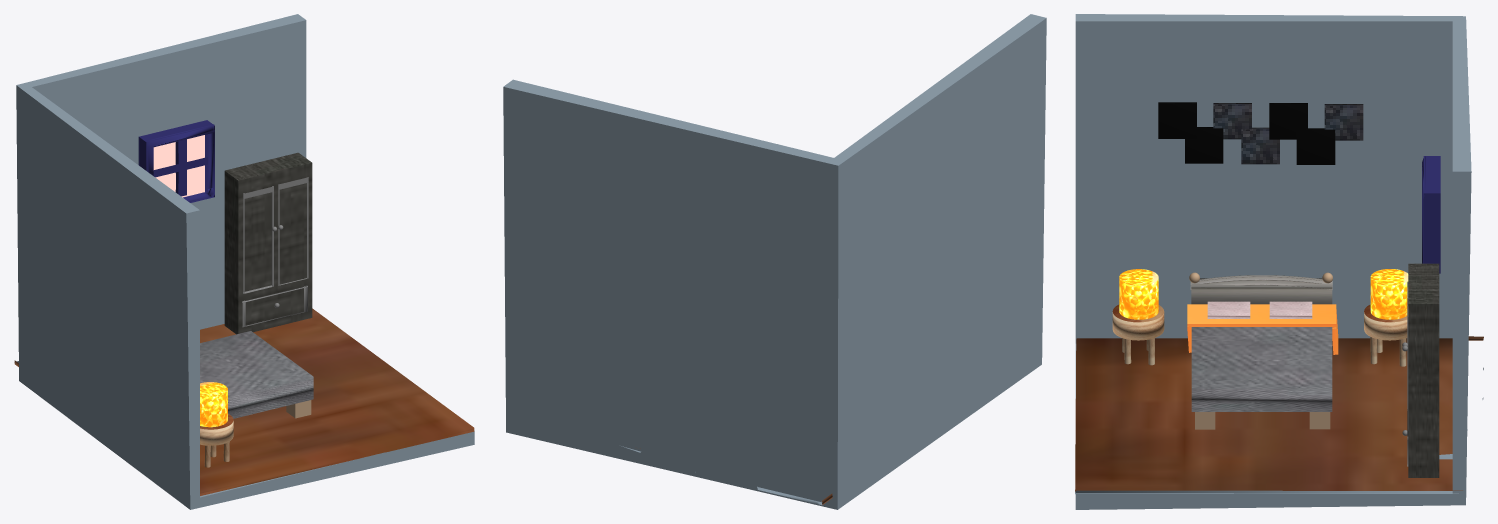
Rendered from myhomeFinalFour.glb.
The picture shows the model from 3 angles, left to right: view 1: azimuth 30°, elevation 25°; view 2: azimuth 150°, elevation 25°; view 3: azimuth 270°, elevation 25°; orthographic projection. The views are drawn at different scales.
Parts seen in each view (by area): view 1: Cube.028, Cube.001, Cube.016, Cube.002, Cube.027, Cube.014, Cylinder.005, Cube.015, Cube.013, Cube.017, Cylinder, Cube.018; view 2: Cube.028; view 3: Cube.028, Cube.001, Cube.002, Cube.016, Cube.007, Cube.009, Cube.013, Cylinder.005, Cylinder.011, Cube.025, Cube.020, Cube.026 (+9 smaller).
Boxes of the visible parts, x1,y1,x2,y2 form: Cube.028: [16, 14, 474, 509]; Cube.001: [14, 308, 474, 495]; Cube.016: [224, 152, 312, 334]; Cube.002: [200, 331, 313, 418]; Cube.027: [153, 135, 204, 197]; Cube.014: [139, 124, 214, 201]; Cylinder.005: [200, 382, 227, 427]; Cube.015: [153, 139, 207, 196]; Cube.013: [138, 120, 214, 202]; Cube.017: [243, 186, 273, 293]; Cylinder: [200, 414, 233, 445]; Cube.018: [278, 177, 308, 285]; Cube.028: [503, 14, 1046, 509]; Cube.028: [1075, 14, 1471, 509]; Cube.001: [1075, 336, 1483, 494]; Cube.002: [1191, 327, 1332, 411]; Cube.016: [1408, 263, 1439, 477]; Cube.007: [1191, 278, 1332, 304]; Cube.009: [1187, 304, 1336, 327]; Cube.013: [1423, 156, 1440, 273]; Cylinder.005: [1119, 269, 1158, 319]; Cylinder.011: [1370, 269, 1408, 319]; Cube.025: [1296, 128, 1335, 164]; Cube.020: [1158, 102, 1196, 138]; Cube.026: [1324, 104, 1363, 140].
Size of the model in its own units: 7.82 by 7.8 by 8.54.
46 materials, 26 textured.
